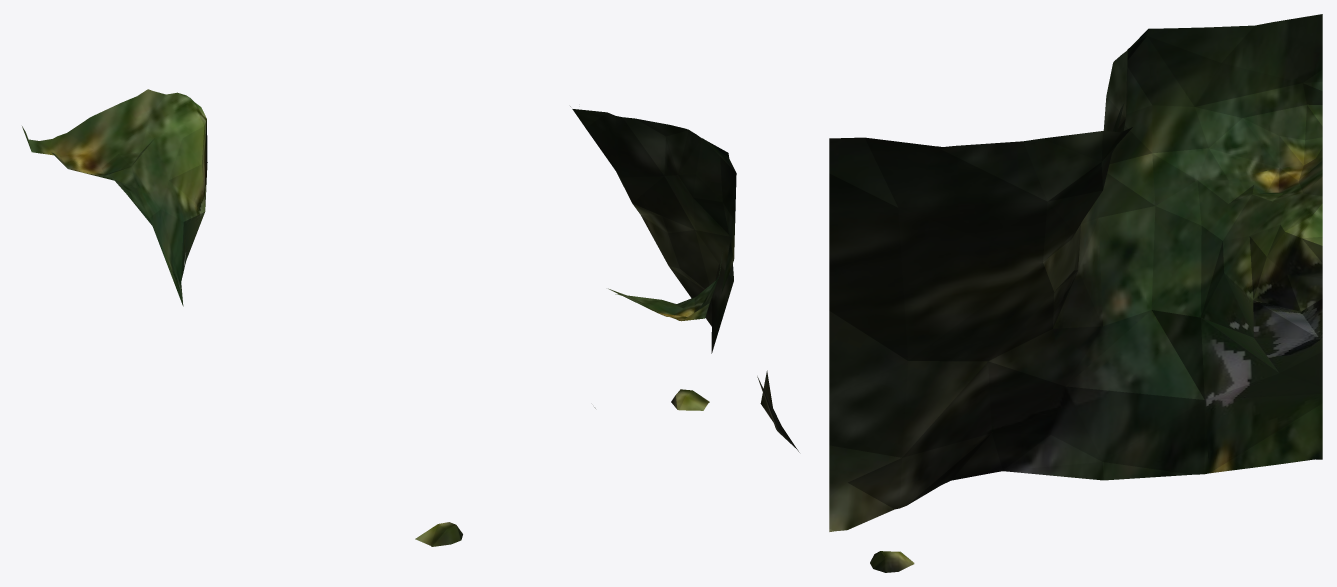
3 renders of one model, left to right at view 1: azimuth 30°, elevation 25°; view 2: azimuth 150°, elevation 25°; view 3: azimuth 270°, elevation 25°, orthographic. The views are drawn at different scales.
Bounding box in the file's own units: 0.5907 × 0.8373 × 0.8373.
Materials: 3 (3 with a texture image).
